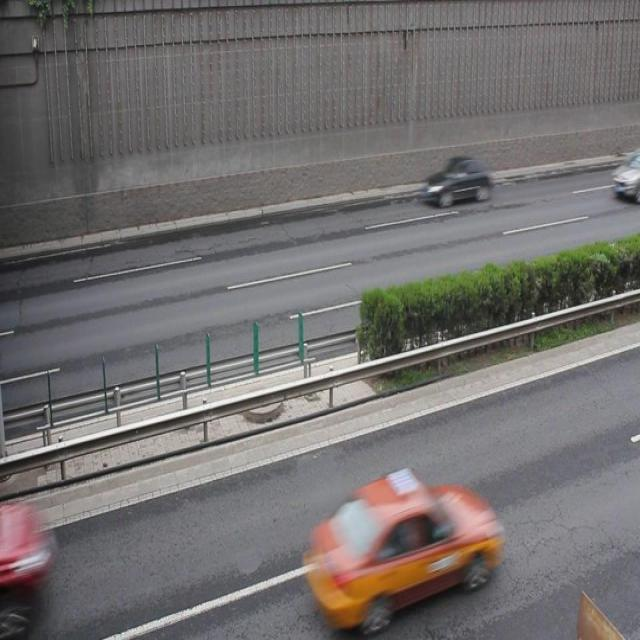car: (305, 469, 498, 627), (1, 493, 50, 640), (421, 153, 491, 207), (611, 145, 640, 200)
